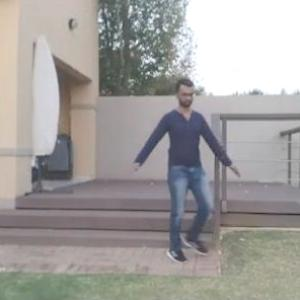land: (127, 91, 234, 268)
